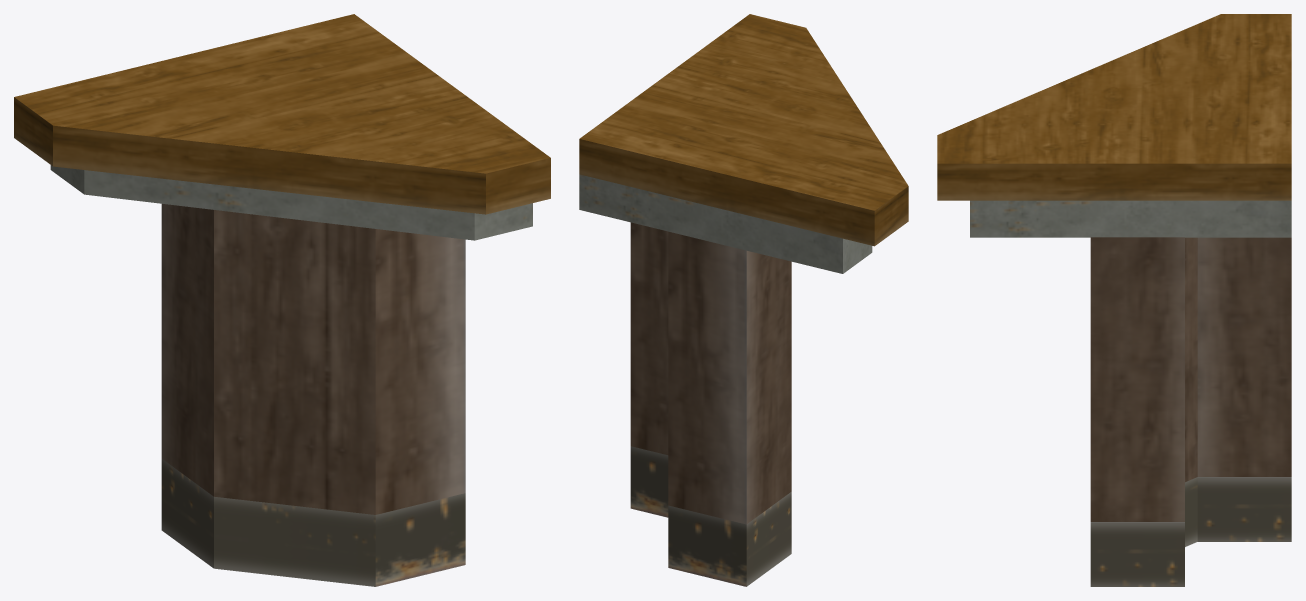
The model's file is tablecounter02c.fbx.
The picture shows the model from 3 angles, left to right: view 1: azimuth 30°, elevation 25°; view 2: azimuth 150°, elevation 25°; view 3: azimuth 270°, elevation 25°; orthographic projection. The views are drawn at different scales.
Parts seen in each view (by area): view 1: tablecounter02c; view 2: tablecounter02c; view 3: tablecounter02c.
Part boxes in pixels (bbox=[...]): tablecounter02c: bbox=[14, 14, 550, 586]; tablecounter02c: bbox=[579, 14, 908, 586]; tablecounter02c: bbox=[937, 14, 1291, 586].
Bounding box in the file's own units: 0.6642 × 0.8754 × 0.6642.
